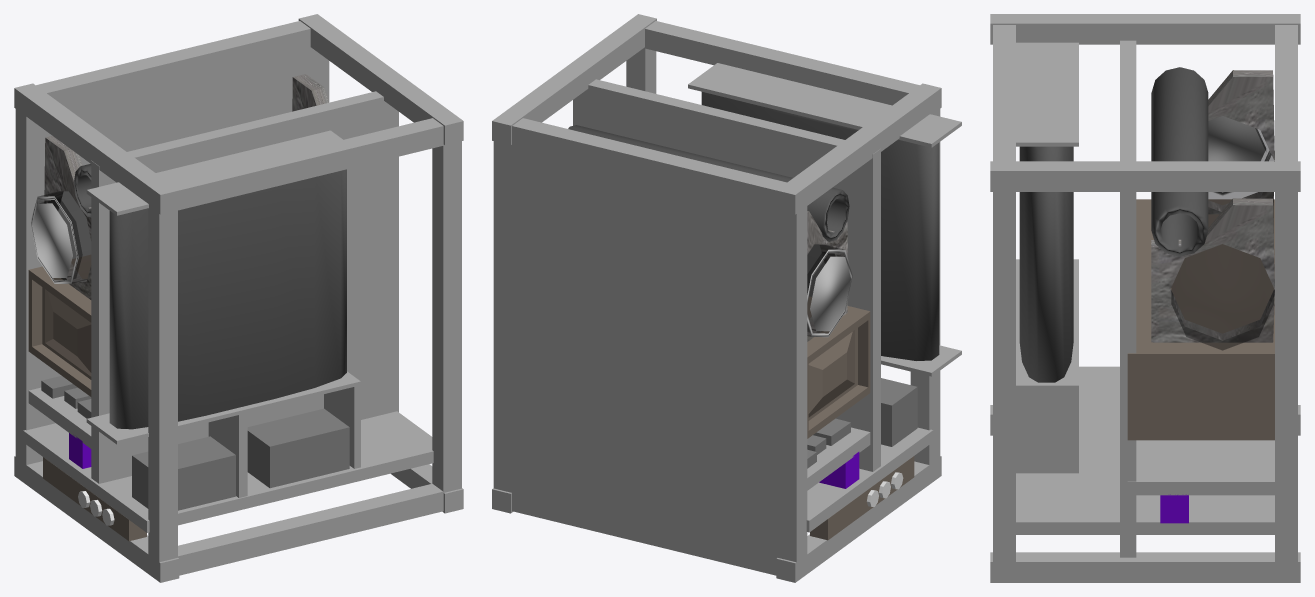
The model's file is carbondioxideremoval.glb.
3 renders of one model, left to right at view 1: azimuth 30°, elevation 25°; view 2: azimuth 150°, elevation 25°; view 3: azimuth 270°, elevation 25°, orthographic. The views are drawn at different scales.
Parts seen in each view (by area): view 1: Cube.057, Cube.068, Cube.059, Cube.073, Cube.058, Cube.069, Cylinder.015, Cube.067, Cube.070, Cube.071, Cube.066, Cube.074 (+3 smaller); view 2: Cube.057, Cube.068, Cube.070, Cube.058, Cylinder.015, Cube.059, Cylinder.017, Cube.067, Cube.066, Cube.074, Cube.071, Cube.069 (+2 smaller); view 3: Cube.057, Cube.058, Cube.059, Cylinder.015, Cube.068, Cylinder.017, Cube.072, Cube.074, Cube.069, Cube.070, Cube.071, Cube.075.
Boxes of the visible parts, bbox=[...] form: Cube.057: bbox=[14, 14, 463, 582]; Cube.068: bbox=[109, 169, 346, 429]; Cube.059: bbox=[23, 411, 433, 532]; Cube.073: bbox=[247, 408, 349, 488]; Cube.058: bbox=[28, 254, 91, 396]; Cube.069: bbox=[86, 371, 360, 497]; Cylinder.015: bbox=[30, 191, 90, 283]; Cube.067: bbox=[132, 436, 235, 510]; Cube.070: bbox=[86, 130, 342, 215]; Cube.071: bbox=[44, 136, 91, 299]; Cube.066: bbox=[43, 457, 146, 541]; Cube.074: bbox=[28, 387, 91, 448]; Cube.057: bbox=[492, 14, 941, 582]; Cube.068: bbox=[701, 92, 939, 360]; Cube.070: bbox=[688, 63, 961, 147]; Cube.058: bbox=[807, 296, 870, 438]; Cylinder.015: bbox=[807, 244, 852, 337]; Cube.059: bbox=[806, 427, 933, 532]; Cylinder.017: bbox=[568, 125, 849, 241]; Cube.067: bbox=[881, 378, 917, 446]; Cube.066: bbox=[810, 456, 914, 540]; Cube.074: bbox=[807, 427, 870, 490]; Cube.071: bbox=[807, 211, 847, 341]; Cube.069: bbox=[881, 345, 961, 376]; Cube.057: bbox=[990, 14, 1300, 582]; Cube.058: bbox=[1127, 199, 1274, 440]; Cube.059: bbox=[1016, 366, 1274, 534]; Cylinder.015: bbox=[1171, 116, 1273, 350]; Cube.068: bbox=[1019, 146, 1073, 382]; Cylinder.017: bbox=[1151, 67, 1208, 256]; Cube.072: bbox=[1151, 198, 1274, 342]; Cube.074: bbox=[1127, 440, 1274, 495]; Cube.069: bbox=[1016, 259, 1078, 476]; Cube.070: bbox=[1016, 42, 1078, 146]; Cube.071: bbox=[1208, 70, 1274, 214]; Cube.075: bbox=[1160, 494, 1188, 523].
Size of the model in its own units: 4.5 by 4.97 by 3.4.
Materials: 7 (1 with a texture image).
